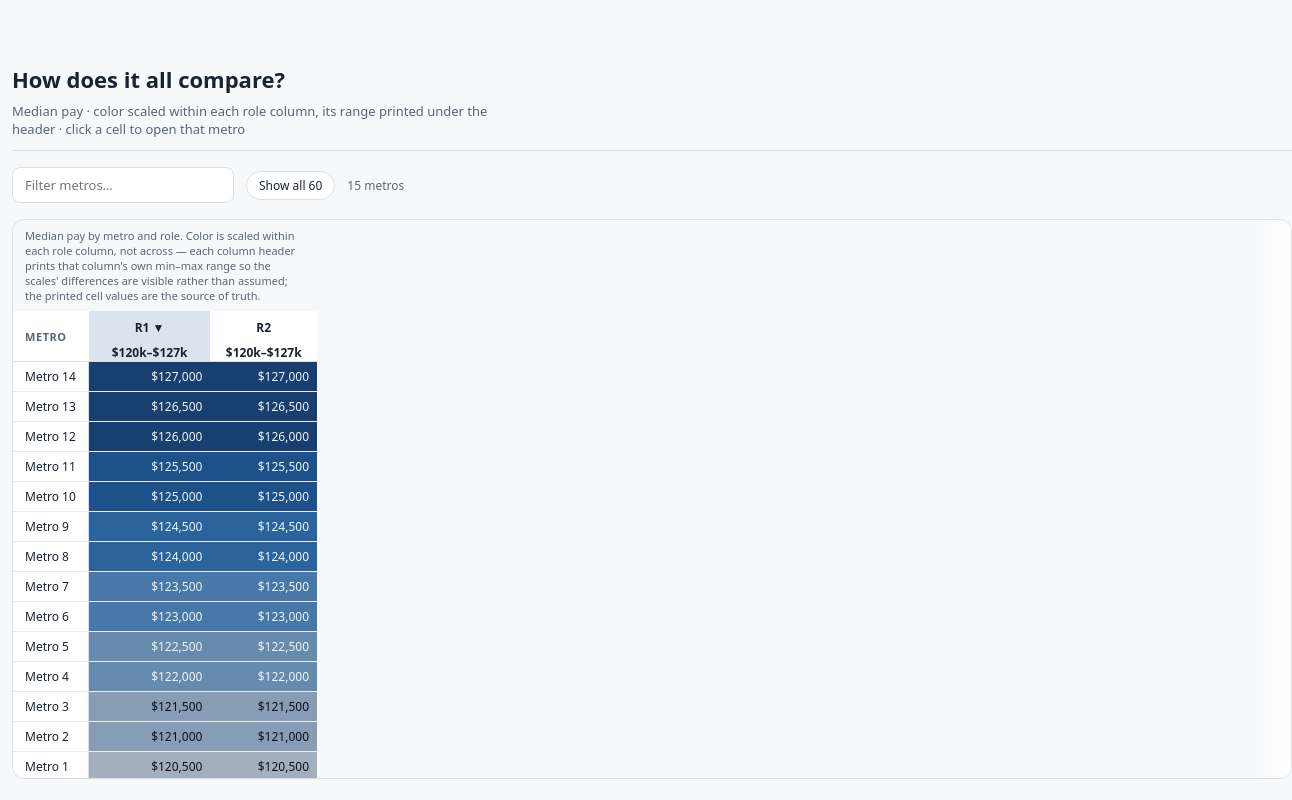
Test: RoleHeatmap narrow cap › narrow: expanding shows every metro, and the toggle offers the phone cap back
The width and height of the screenshot is (1292, 800).
Click the button "Show all 60" at (291, 185), box [246, 170, 335, 200]
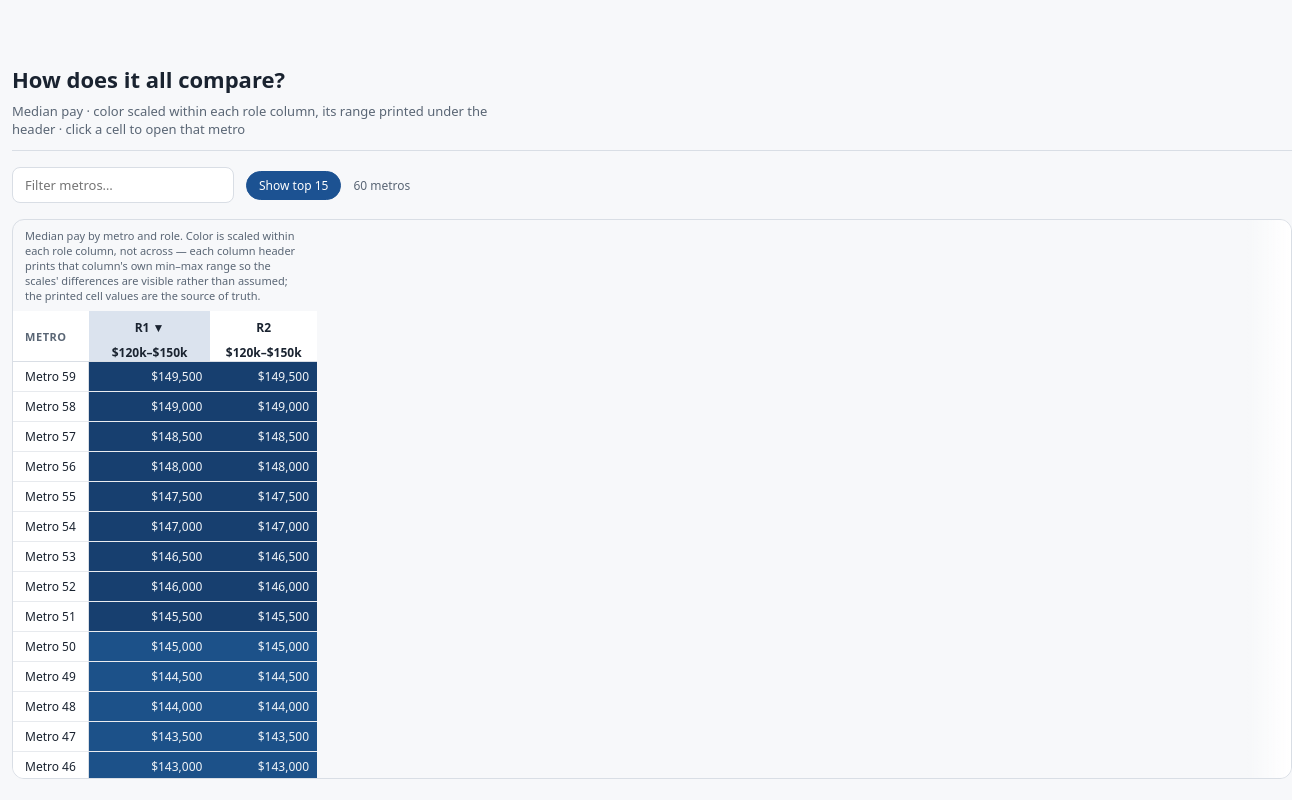
Expected: the text "60 metros" is shown, [353, 176, 410, 194]
Expected: the button "Show top 15" is shown, [246, 170, 341, 200]
